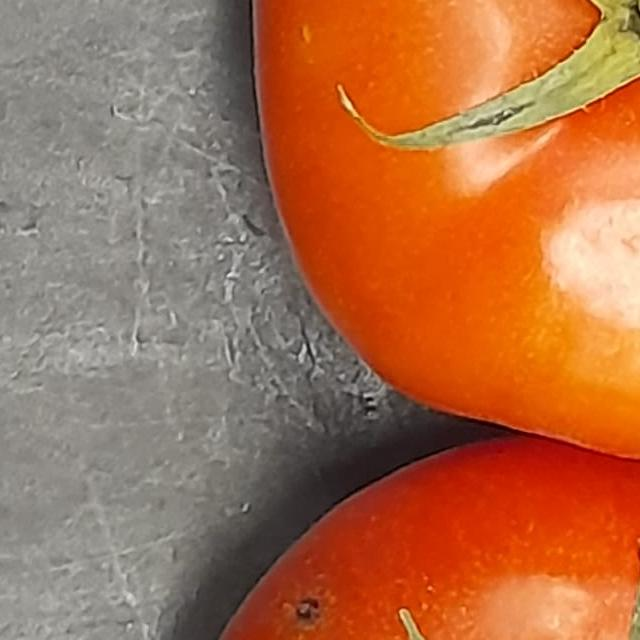tomato: (210, 0, 640, 463), (133, 410, 640, 640)
